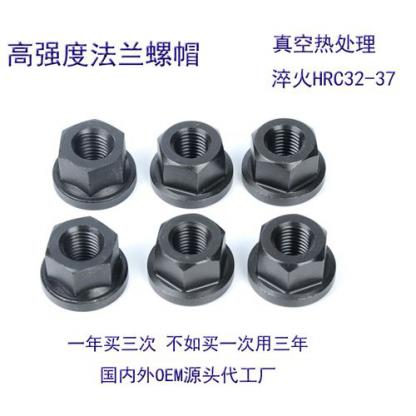FOD: (37, 214, 129, 316), (146, 210, 238, 310), (248, 213, 339, 309), (241, 113, 328, 206), (50, 116, 136, 209), (149, 118, 234, 210)
